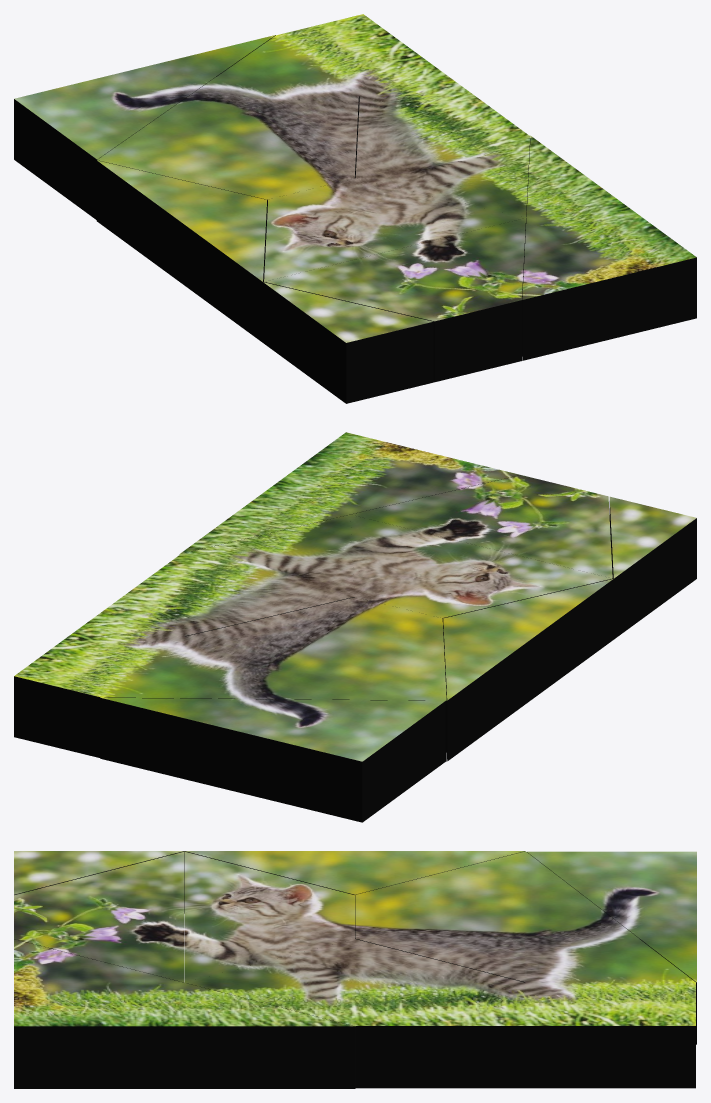
File: Puuzzle PAE.fbx
The picture shows the model from 3 angles, top to bottom: view 1: azimuth 30°, elevation 25°; view 2: azimuth 150°, elevation 25°; view 3: azimuth 270°, elevation 25°; orthographic projection. The views are drawn at different scales.
Visible parts, largest first — view 1: Piece_2, Piece_6, Piece_8, Piece_5, Piece_3, Piece_4, Piece_9, Piece_7, Piece_1; view 2: Piece_3, Piece_6, Piece_4, Piece_5, Piece_9, Piece_2, Piece_8, Piece_7, Piece_1; view 3: Piece_4, Piece_2, Piece_6, Piece_7, Piece_8, Piece_9, Piece_3, Piece_5, Piece_1.
Part boxes in pixels (x1=…): Piece_2: x1=522, y1=136, x2=696, y2=360; Piece_6: x1=97, y1=77, x2=358, y2=212; Piece_8: x1=264, y1=218, x2=525, y2=382; Piece_5: x1=96, y1=160, x2=267, y2=342; Piece_3: x1=14, y1=35, x2=275, y2=219; Piece_4: x1=217, y1=14, x2=528, y2=135; Piece_9: x1=264, y1=178, x2=525, y2=281; Piece_7: x1=355, y1=96, x2=530, y2=223; Piece_1: x1=263, y1=282, x2=433, y2=403; Piece_3: x1=100, y1=697, x2=445, y2=822; Piece_6: x1=185, y1=597, x2=446, y2=761; Piece_4: x1=14, y1=555, x2=216, y2=757; Piece_5: x1=443, y1=579, x2=613, y2=761; Piece_9: x1=350, y1=515, x2=612, y2=621; Piece_2: x1=179, y1=432, x2=520, y2=554; Piece_8: x1=351, y1=475, x2=612, y2=578; Piece_7: x1=180, y1=514, x2=354, y2=636; Piece_1: x1=609, y1=496, x2=696, y2=639; Piece_4: x1=356, y1=939, x2=695, y2=1088; Piece_2: x1=14, y1=939, x2=354, y2=1088; Piece_6: x1=355, y1=851, x2=638, y2=982; Piece_7: x1=185, y1=939, x2=524, y2=1088; Piece_8: x1=14, y1=852, x2=184, y2=982; Piece_9: x1=184, y1=852, x2=354, y2=982; Piece_3: x1=527, y1=851, x2=696, y2=1044; Piece_5: x1=184, y1=851, x2=524, y2=938; Piece_1: x1=14, y1=851, x2=184, y2=894.
Size of the model in its own units: 603 by 100 by 992.
Materials: 1 (1 with a texture image).
